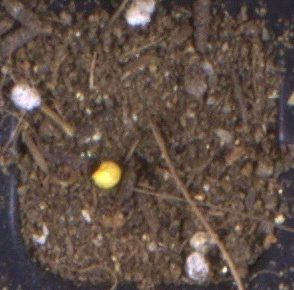chilli seed: (91, 159, 122, 188)
